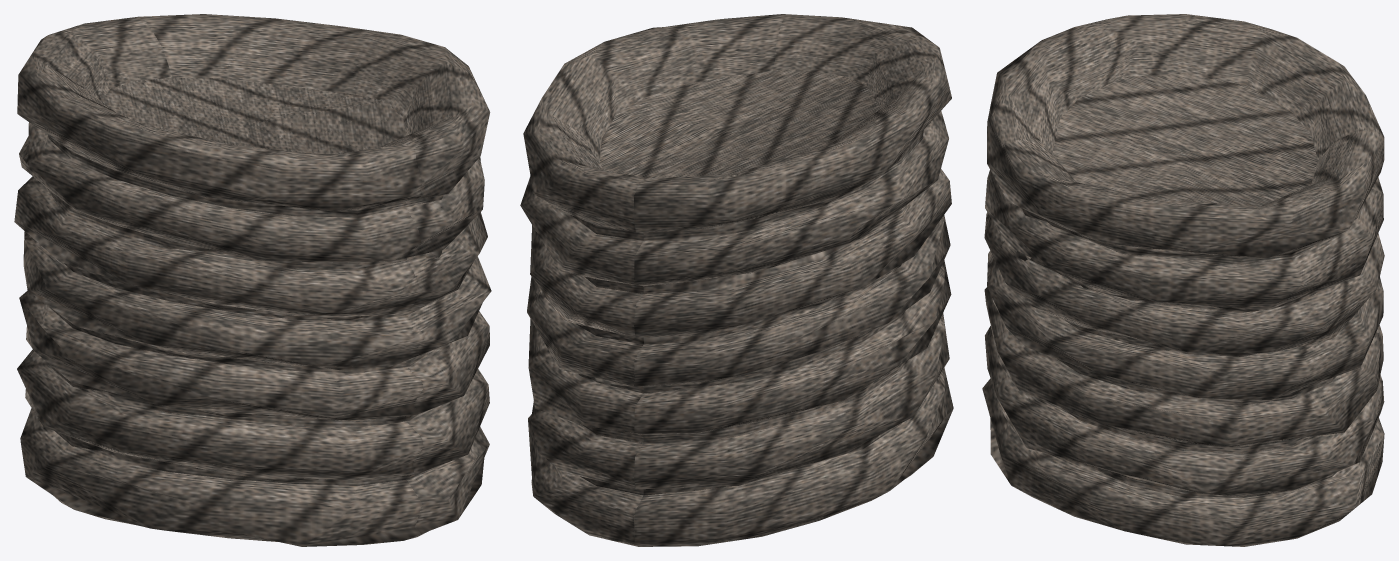
File: SM_Rope_Sleeve.fbx
3 views of the same model, side by side, from view 1: azimuth 30°, elevation 25°; view 2: azimuth 150°, elevation 25°; view 3: azimuth 270°, elevation 25° (orthographic). The views are drawn at different scales.
Visible parts, largest first — view 1: SM_Rope_Sleeve_LOD0; view 2: SM_Rope_Sleeve_LOD0; view 3: SM_Rope_Sleeve_LOD0.
Part boxes in pixels (x1,y1,x2,y2): SM_Rope_Sleeve_LOD0: [14, 14, 491, 546]; SM_Rope_Sleeve_LOD0: [520, 14, 953, 546]; SM_Rope_Sleeve_LOD0: [982, 14, 1384, 546].
Size of the model in its own units: 37.3 by 36.71 by 38.74.
1 material, 1 textured.
